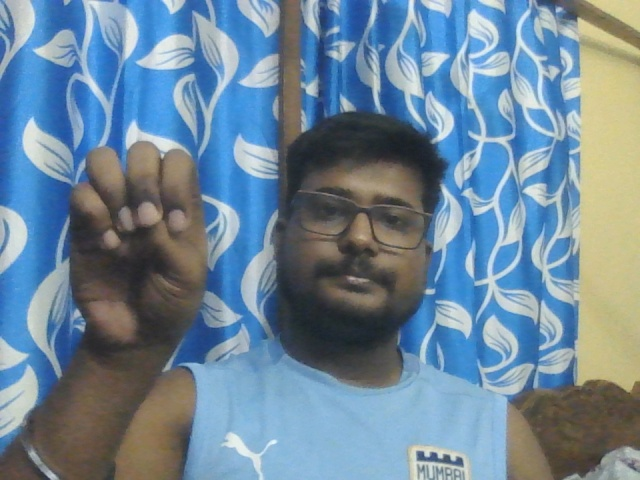E: (71, 142, 206, 347)
